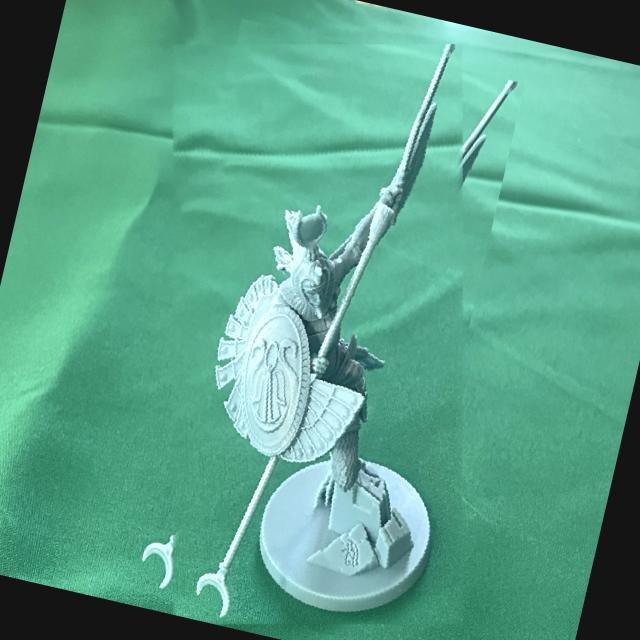isis: (78, 0, 557, 640)
